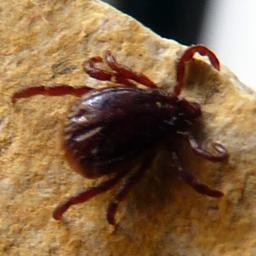Rhipicephalus sanguineus: (8, 46, 227, 222)
